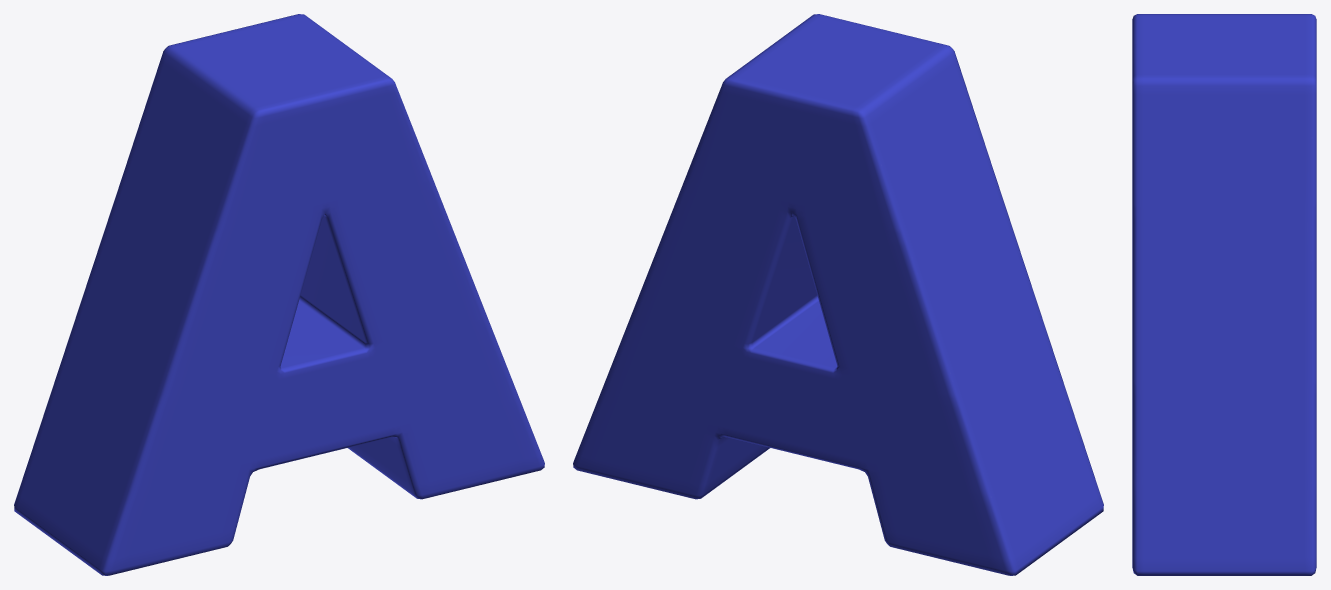
Rendered from Letra A.glb.
3 renders of one model, left to right at view 1: azimuth 30°, elevation 25°; view 2: azimuth 150°, elevation 25°; view 3: azimuth 270°, elevation 25°, orthographic.
Visible parts, largest first — view 1: node_id30; view 2: node_id30; view 3: node_id30.
Boxes of the visible parts, x1,y1,x2,y2 form: node_id30: [14, 14, 544, 575]; node_id30: [573, 14, 1103, 575]; node_id30: [1132, 14, 1316, 575].
Bounding box in the file's own units: 0.512 × 0.4741 × 0.1862.
Materials: 1 (1 with a texture image).
